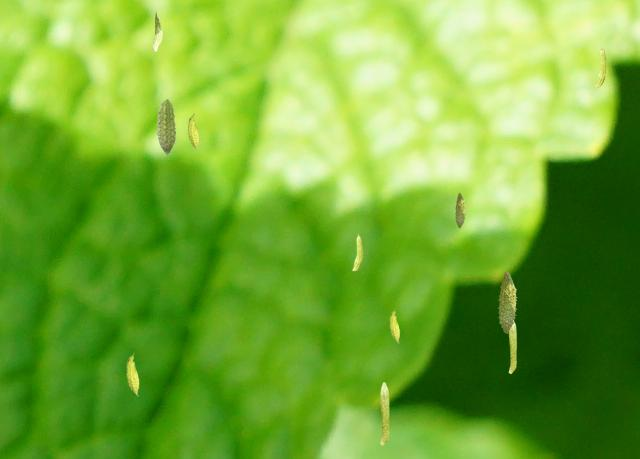ampalaya: (497, 271, 517, 334), (156, 98, 176, 155), (379, 382, 389, 445), (126, 352, 139, 396), (594, 46, 607, 87), (508, 320, 517, 374), (187, 112, 199, 151), (351, 233, 363, 271), (152, 11, 163, 52), (454, 192, 466, 228), (389, 308, 400, 344)
